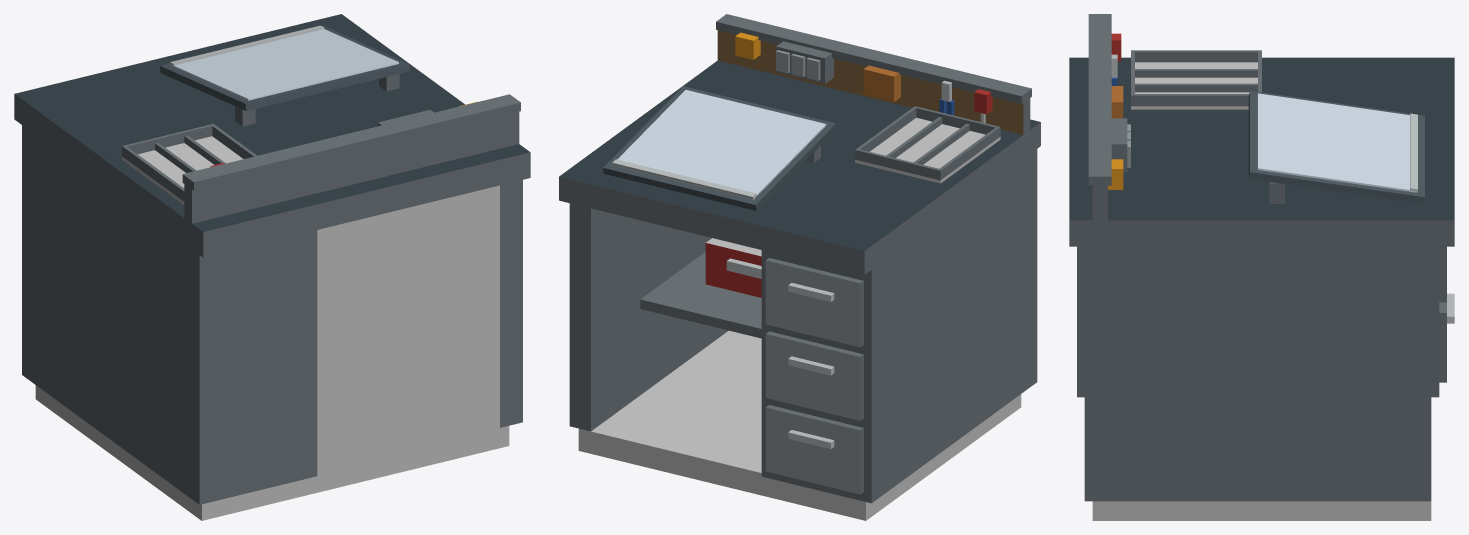
File: fabrication_desk.obj
3 views of the same model, side by side, from view 1: azimuth 30°, elevation 25°; view 2: azimuth 150°, elevation 25°; view 3: azimuth 270°, elevation 25° (orthographic). The views are drawn at different scales.
Visible parts, largest first — view 1: fabrication_desk; view 2: fabrication_desk; view 3: fabrication_desk.
Boxes of the visible parts, left/top/right/bottom form: fabrication_desk: left=14, top=14, right=530, bottom=520; fabrication_desk: left=559, top=14, right=1040, bottom=520; fabrication_desk: left=1069, top=14, right=1454, bottom=520.
Size of the model in its own units: 1 by 1 by 1.
